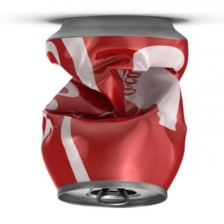can: (37, 10, 195, 212)
